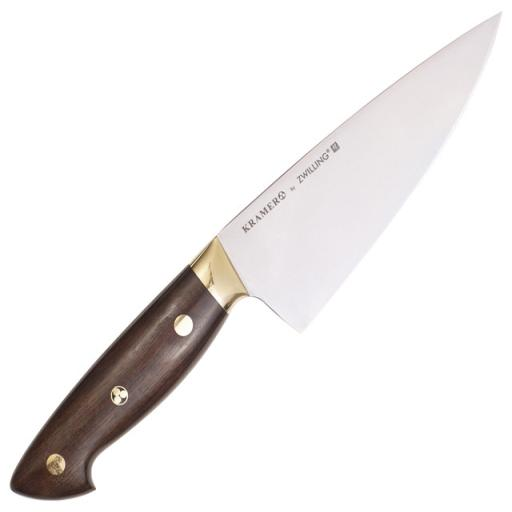knife: (6, 16, 509, 506)
